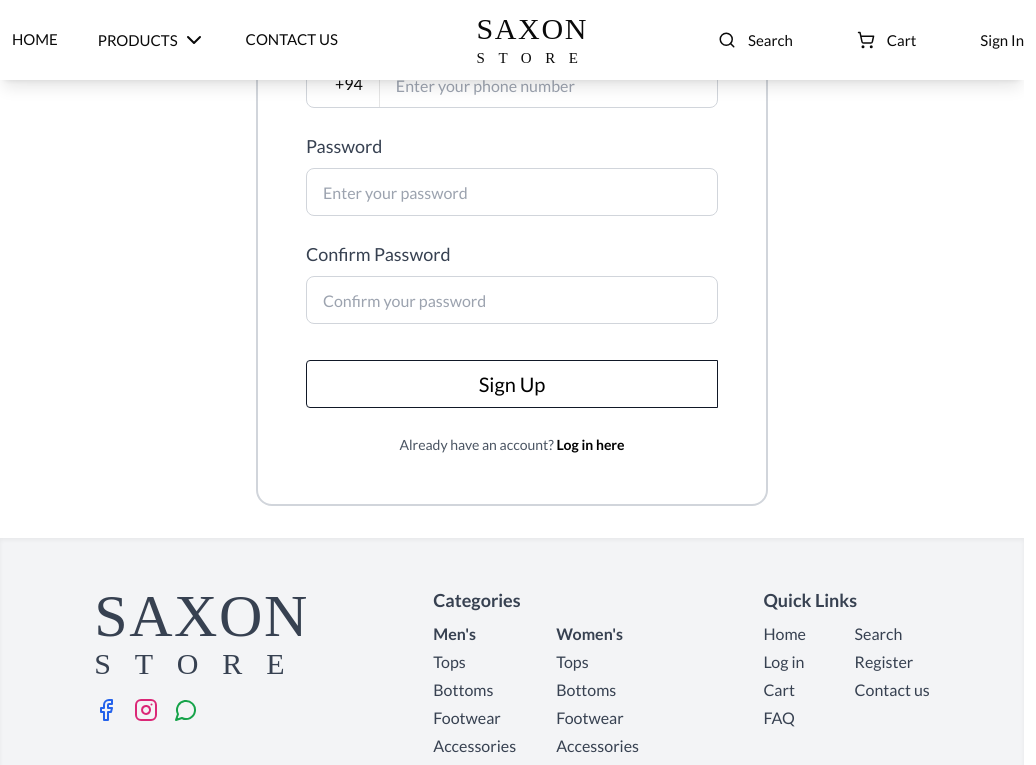
Sign Up Page › should show validation errors for empty fields
(page scrolled)
Click the submit button.
click(512, 384)  # box [306,360,718,408]
(page scrolled)
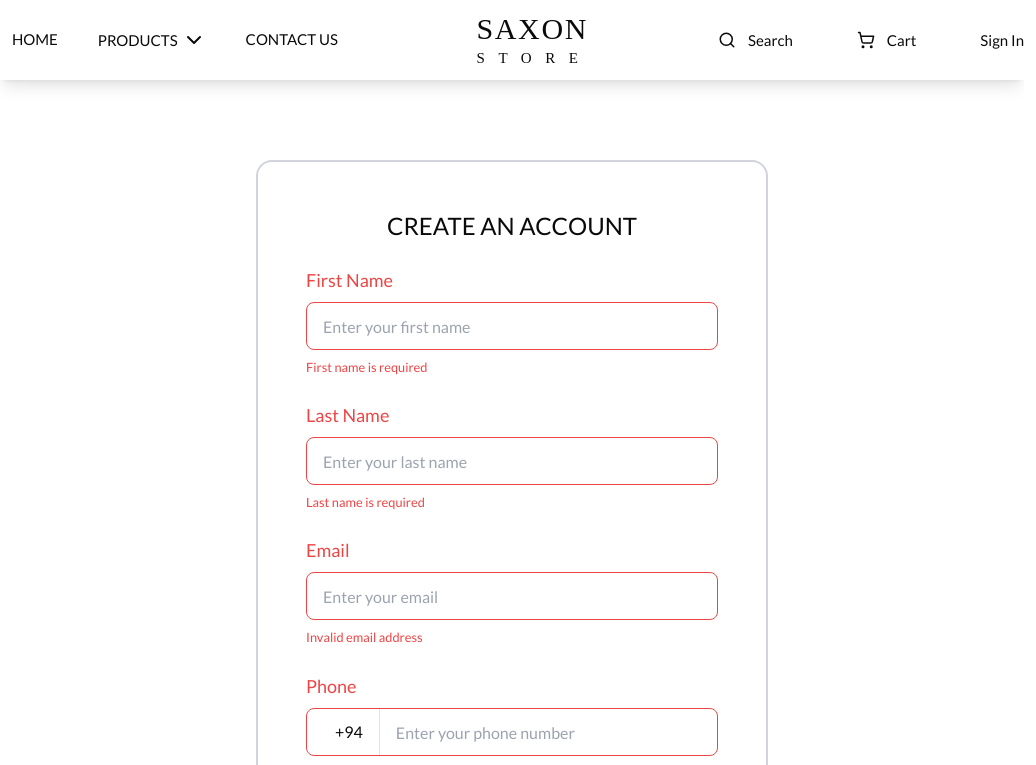
Now the text "First name is required" is shown, box [306,359,428,375]
Now the text "Last name is required" is shown, box [306,494,425,510]
Now the text "Invalid email address" is shown, box [306,629,422,645]
